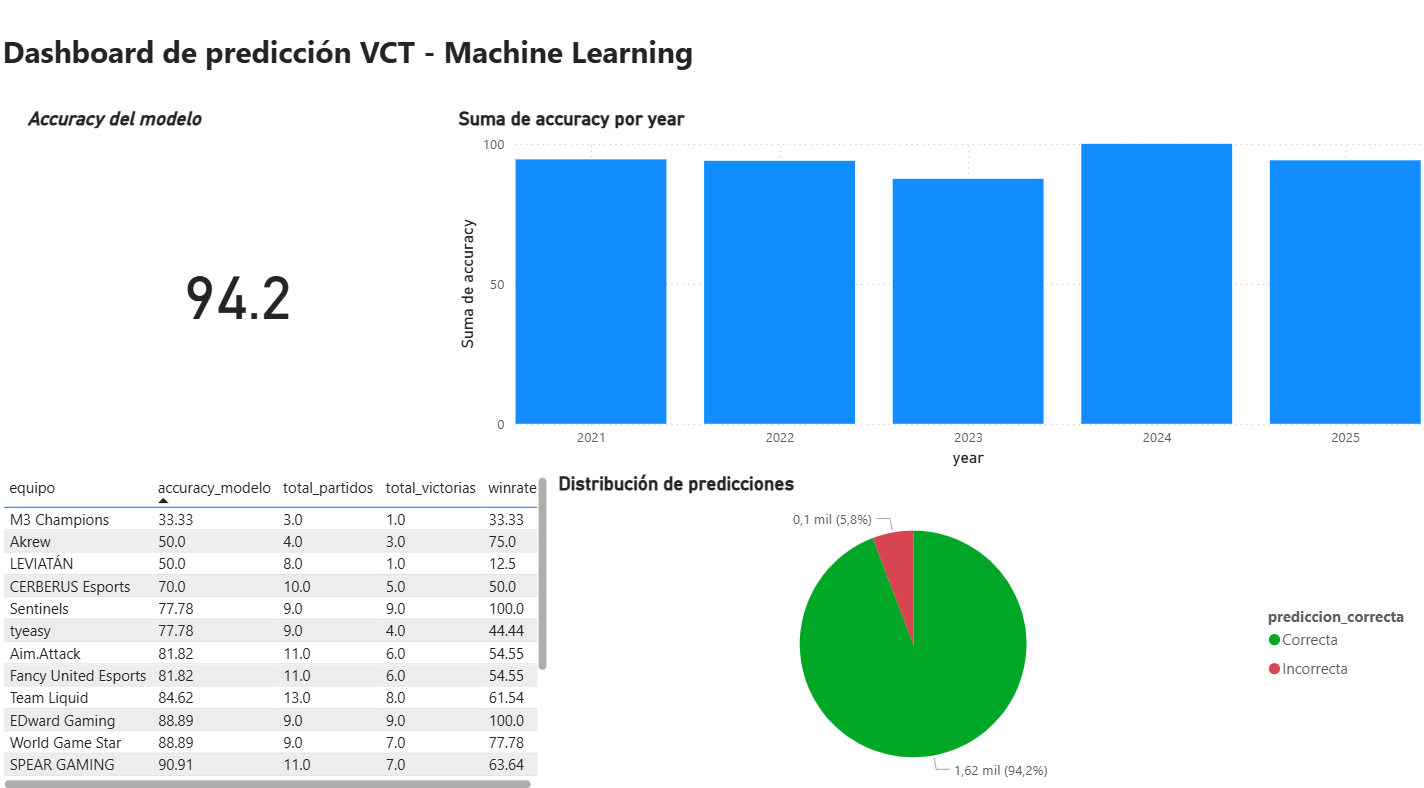

This screenshot's page, from the dashboard's own definition file:
{"tool":"powerbi","page":{"name":"Página 1","canvas":[1280,720],"ordinal":0},"visuals":[{"type":"card","title":"Accuracy del modelo","fields":{"Values":["Min(resumen_modelo.valor)"]},"box":[21.9,103.6,386.4,308.4],"z":0},{"type":"columnChart","fields":{"Category":["accuracy_por_año.year"],"Y":["Sum(accuracy_por_año.accuracy)"]},"box":[408.4,103.6,871.6,326.7],"z":1},{"type":"tableEx","fields":{"Values":["stats_equipos.equipo","stats_equipos.accuracy_modelo","stats_equipos.total_partidos","stats_equipos.total_victorias","stats_equipos.winrate"]},"box":[0,429.9,497.9,290.1],"z":2},{"type":"textbox","box":[0,30.5,1270.2,64.6],"z":3},{"type":"pieChart","title":"Distribución de predicciones","fields":{"Category":["predicciones.prediccion_correcta"],"Y":["CountNonNull(predicciones.prediccion_correcta)"]},"box":[498,431,782,289],"z":4}]}

Visuals, with their boxes in screenshot pixels (x1, y1, x2, y2), scaled from the page's 1280x720 canvas onto the 1424x788 screenshot:
"Accuracy del modelo" card: 24/113/454/451
columnChart - accuracy_por_año.year x Sum(accuracy_por_año.accuracy): 454/113/1423/471
tableEx - stats_equipos.equipo x stats_equipos.accuracy_modelo: 0/471/554/787
textbox: 0/33/1413/104
"Distribución de predicciones" pieChart: 554/472/1423/787
